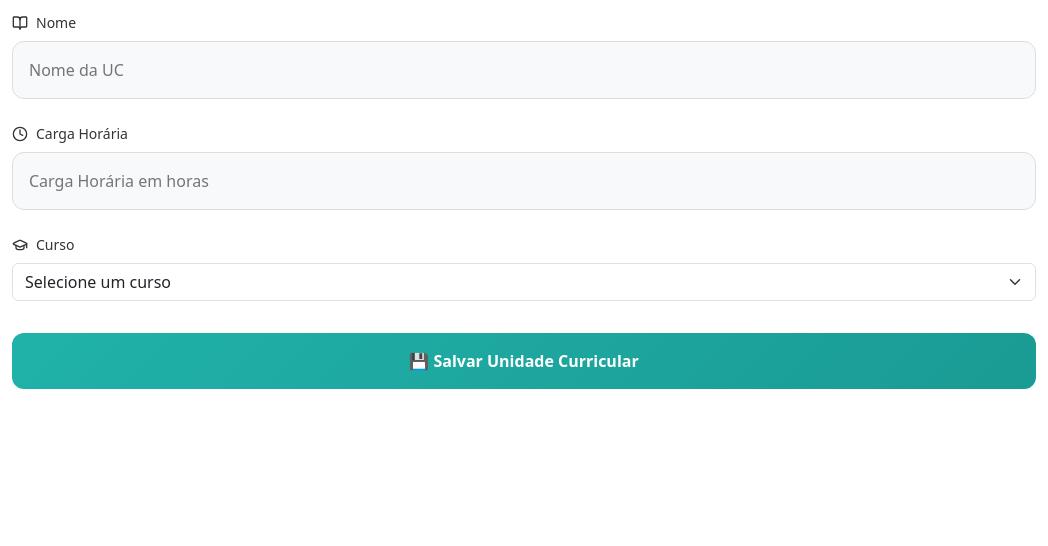
Test: UcsRegistrationForm › valida nome com menos de 3 caracteres
Type "AB" into the field labelled "Nome". click: (524, 70)
box: 12,41 -> 1036,99
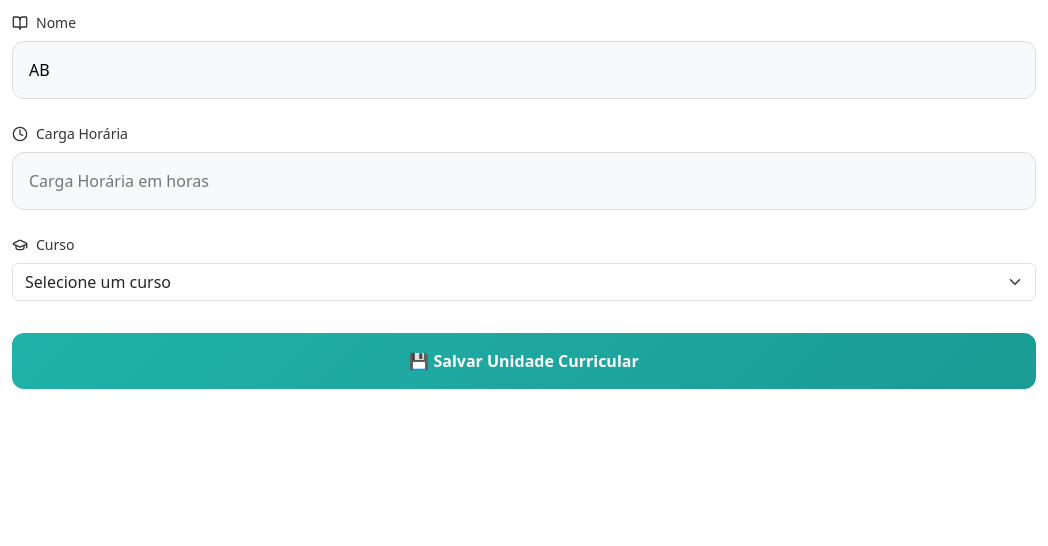
Click the button "💾 Salvar Unidade Curricular". click: (524, 361)
box: 12,333 -> 1036,389
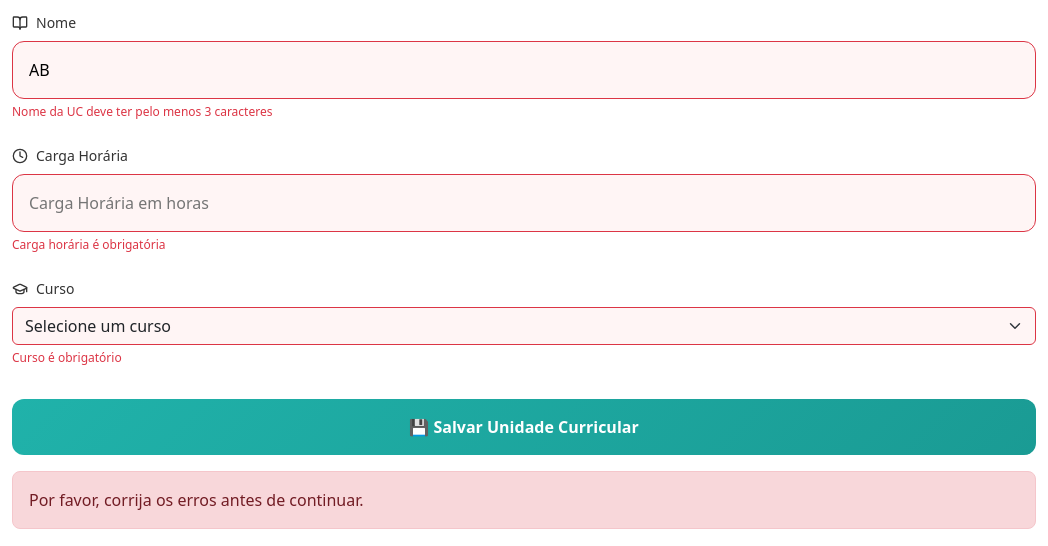
Result: the text "Nome da UC deve ter pelo menos 3 caracteres" is shown at 12,103 -> 272,120
